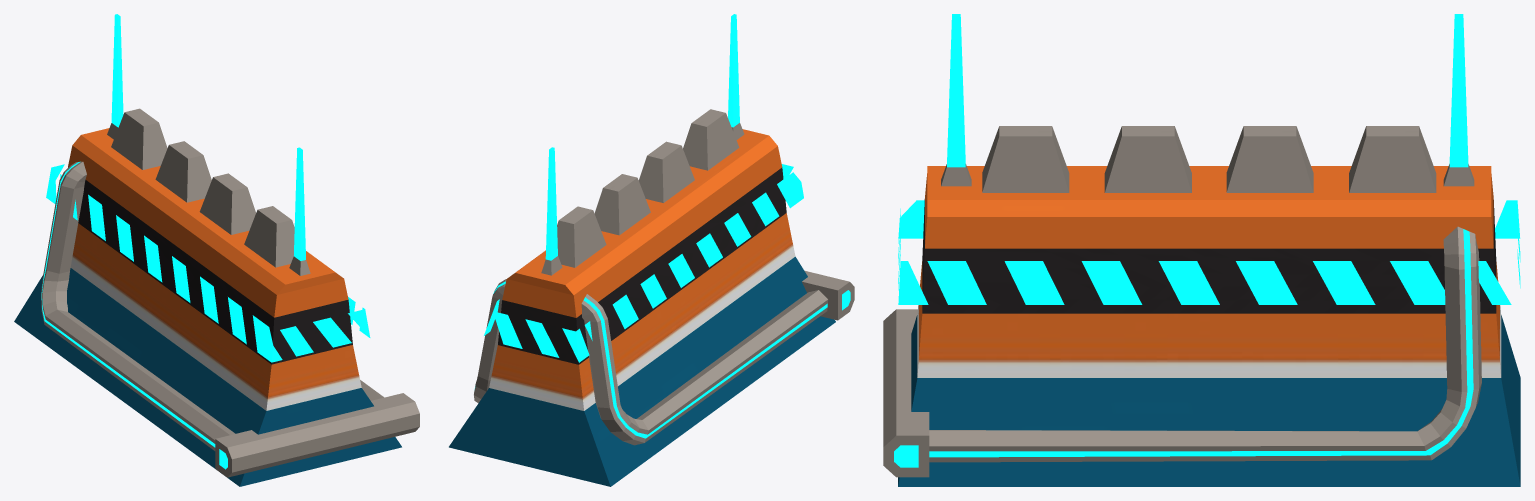
Rendered from Barricade.fbx.
The picture shows the model from 3 angles, left to right: view 1: azimuth 30°, elevation 25°; view 2: azimuth 150°, elevation 25°; view 3: azimuth 270°, elevation 25°; orthographic projection. The views are drawn at different scales.
Visible parts, largest first — view 1: barricada; view 2: barricada; view 3: barricada.
Boxes of the visible parts, x1=… form: barricada: x1=14, y1=14, x2=419, y2=486; barricada: x1=449, y1=14, x2=854, y2=486; barricada: x1=883, y1=14, x2=1520, y2=486.
Size of the model in its own units: 87.68 by 135 by 187.
